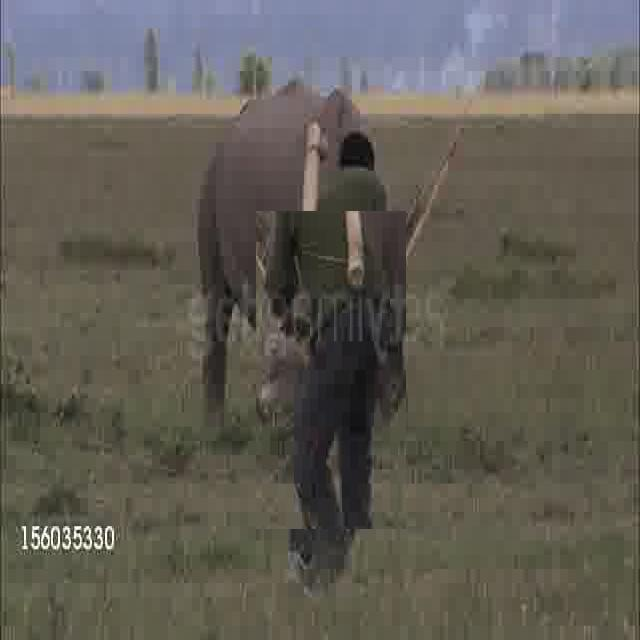poacher: (256, 211, 406, 529)
weapon: (236, 207, 310, 300)
